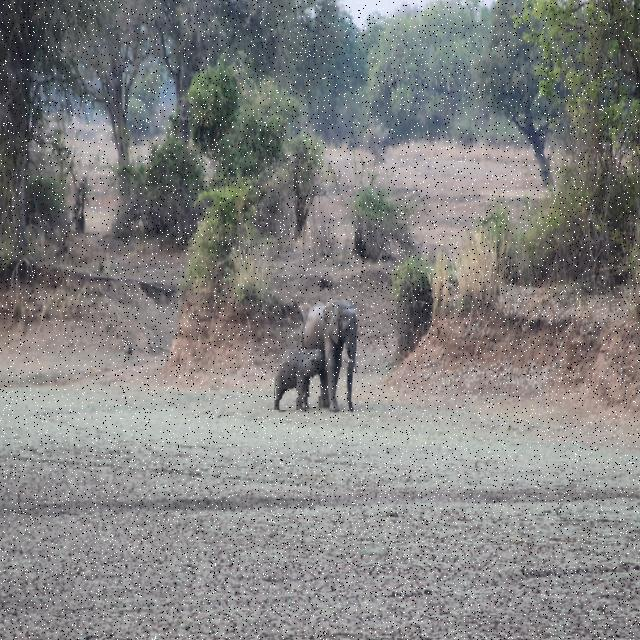elephant: (293, 300, 369, 403), (274, 352, 327, 410)
